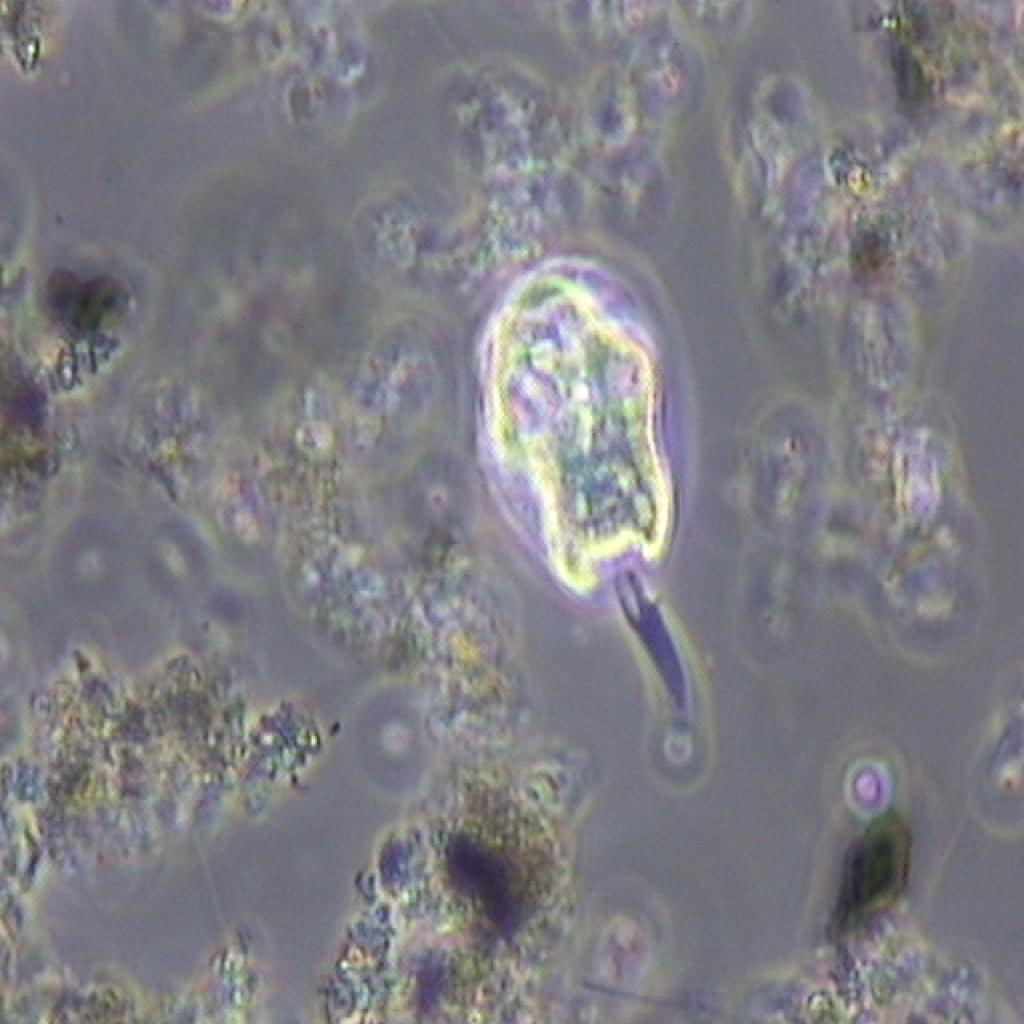Vorticella: (434, 228, 766, 762)
